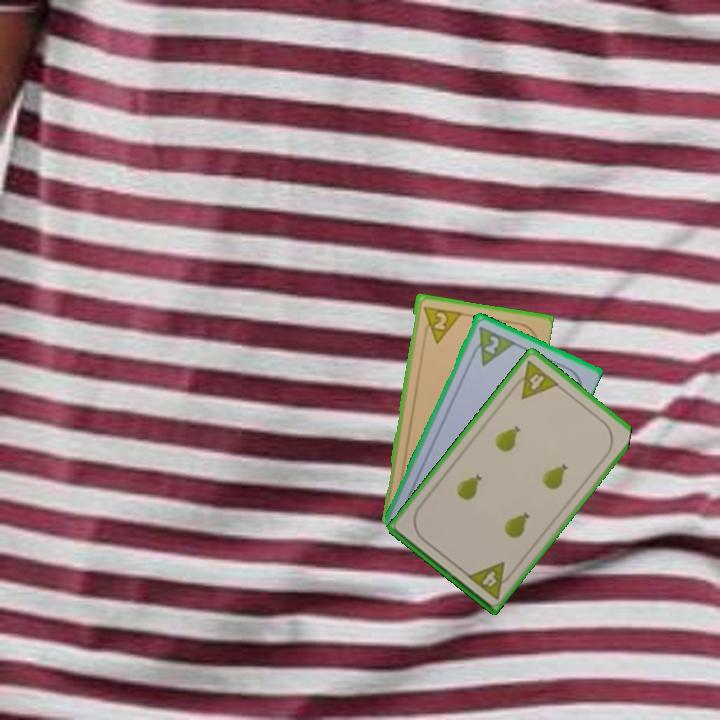2p: (419, 302, 462, 346), (481, 332, 502, 357)
4p: (507, 357, 562, 402), (464, 558, 517, 602)
